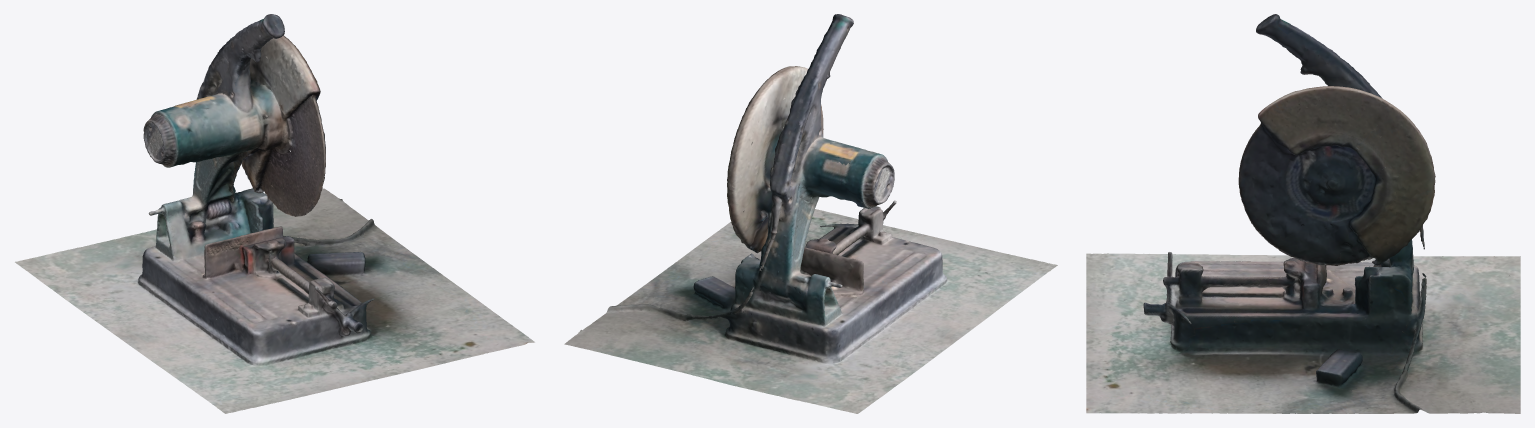
File: cutter.glb
3 views of the same model, side by side, from view 1: azimuth 30°, elevation 25°; view 2: azimuth 150°, elevation 25°; view 3: azimuth 270°, elevation 25° (orthographic). The views are drawn at different scales.
Parts seen in each view (by area): view 1: Steel Cut-Off Saw; view 2: Steel Cut-Off Saw; view 3: Steel Cut-Off Saw.
Boxes of the visible parts, box(x1,y1,x2,y2) form: Steel Cut-Off Saw: box(15, 14, 534, 413); Steel Cut-Off Saw: box(564, 14, 1057, 413); Steel Cut-Off Saw: box(1086, 14, 1520, 413).
Size of the model in its own units: 0.48 by 0.449 by 0.5663.
Materials: 1 (1 with a texture image).
